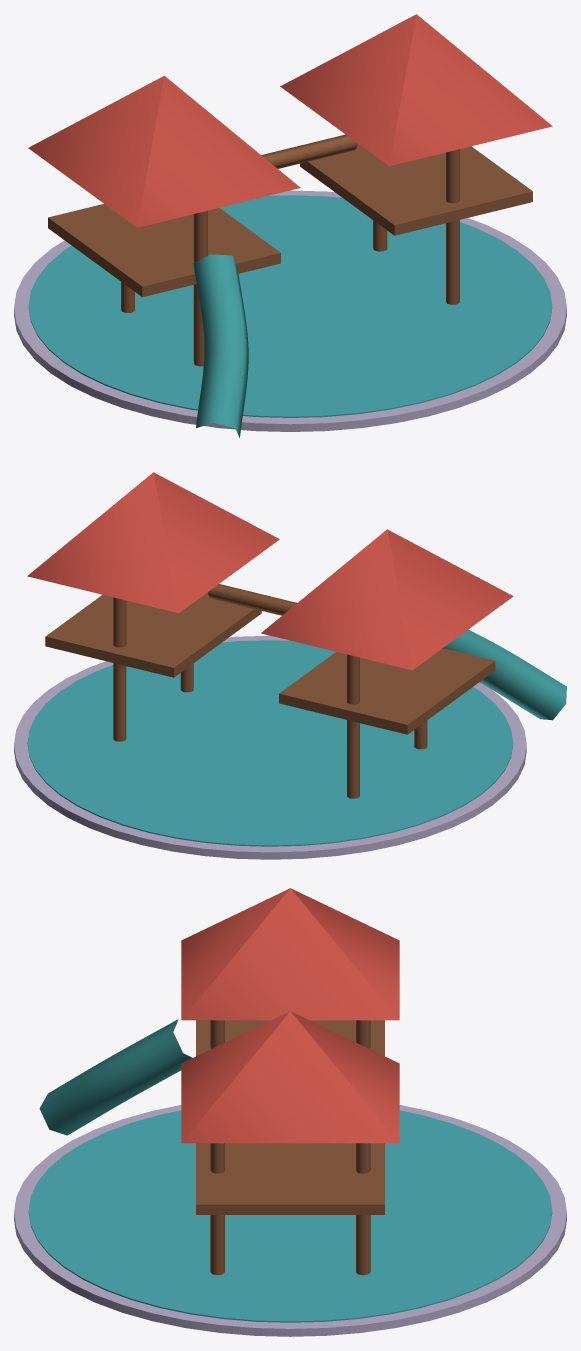
Rendered from splash.glb.
3 renders of one model, top to bottom at view 1: azimuth 30°, elevation 25°; view 2: azimuth 150°, elevation 25°; view 3: azimuth 270°, elevation 25°, orthographic. The views are drawn at different scales.
Bounding box in the file's own units: 3.8 × 2.07 × 3.8.
